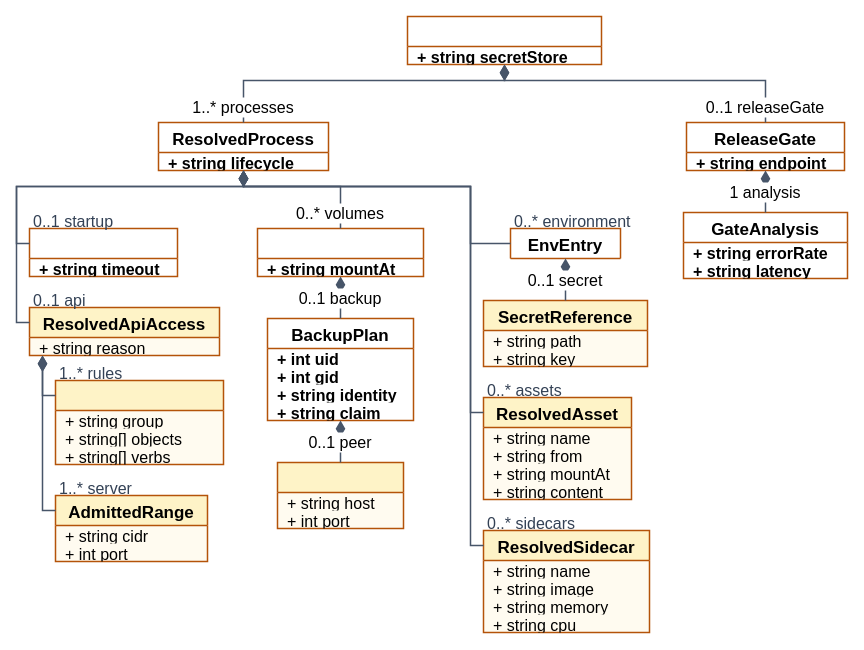
Image size: 864x650. Some labels were removed from this diagram. The shapes that lost their labels are listed below. From the top down, each one's box as (x1, y1, x2, y2) in pixels, then its label:
(406, 15, 602, 65): ResolvedApplication
(28, 227, 178, 277): StartupProbe
(256, 227, 424, 277): ResolvedVolume
(54, 379, 224, 465): ResolvedApiRule
(276, 461, 404, 529): BackupPeer
